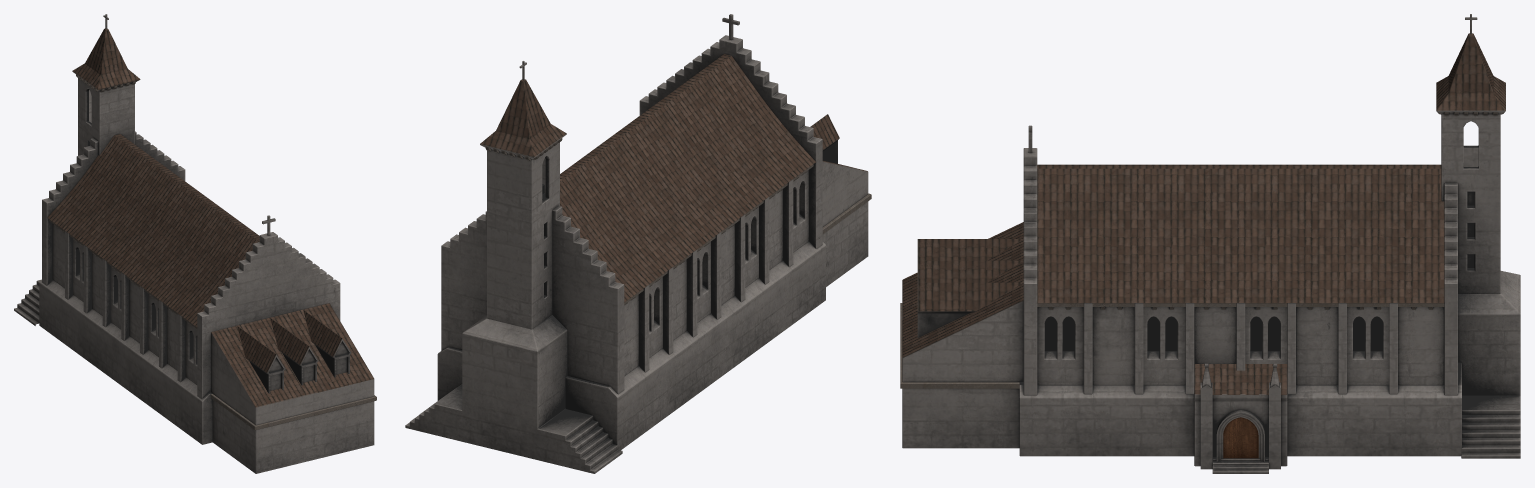
File: IglesiaConvento_02.fbx
The picture shows the model from 3 angles, left to right: view 1: azimuth 30°, elevation 25°; view 2: azimuth 150°, elevation 25°; view 3: azimuth 270°, elevation 25°; orthographic projection. The views are drawn at different scales.
Parts seen in each view (by area): view 1: SM_IglesiaConvento; view 2: SM_IglesiaConvento; view 3: SM_IglesiaConvento.
Part boxes in pixels (bbox=[...]): SM_IglesiaConvento: bbox=[14, 14, 376, 473]; SM_IglesiaConvento: bbox=[405, 14, 871, 473]; SM_IglesiaConvento: bbox=[900, 14, 1520, 473].
Bounding box in the file's own units: 1601 × 2599 × 3700.
